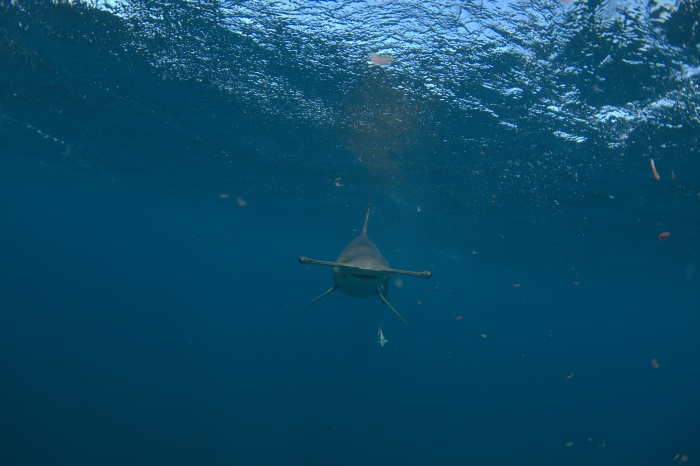Hammer: (270, 188, 452, 340)
